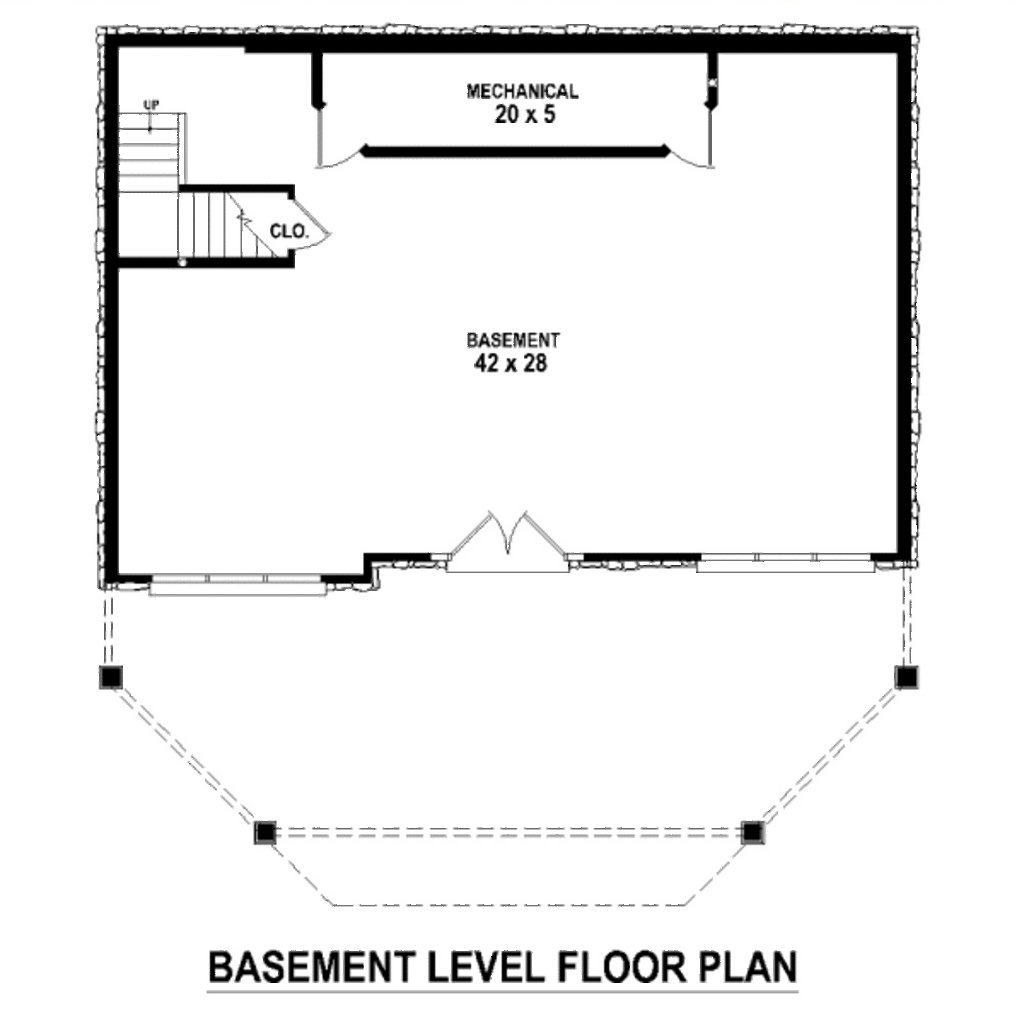door: (448, 503, 575, 577), (666, 108, 730, 172), (283, 196, 342, 258), (320, 103, 367, 175)
stairs: (119, 105, 280, 271)
window: (148, 564, 330, 599), (695, 550, 875, 577)
